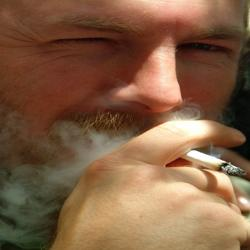smoking: (61, 118, 249, 250)
